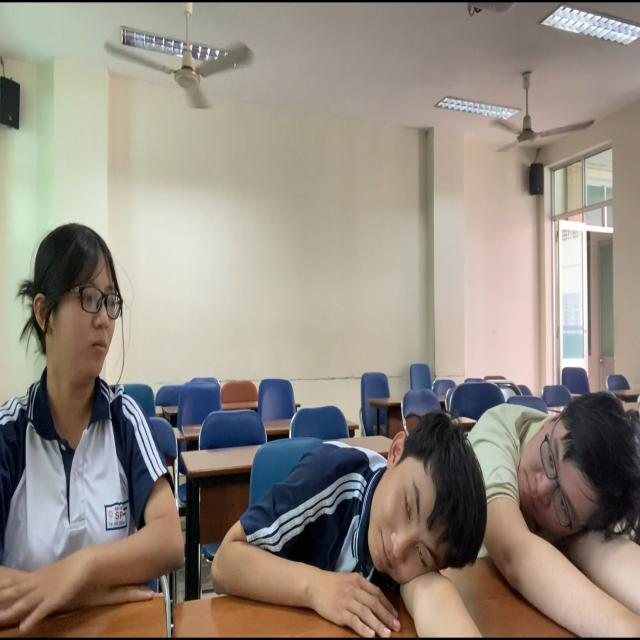sleep: (206, 407, 483, 640), (461, 384, 640, 615)
